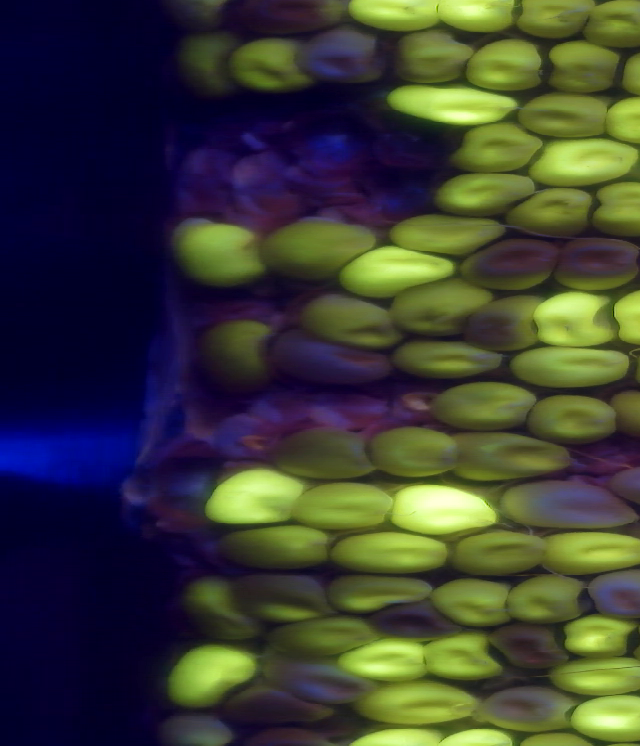fluorescent: (165, 206, 273, 288), (261, 216, 375, 279), (384, 277, 490, 344), (161, 642, 260, 713), (416, 379, 532, 438), (298, 289, 401, 355), (192, 319, 281, 395), (448, 425, 566, 482), (382, 205, 505, 259), (335, 241, 459, 294), (324, 526, 452, 575), (217, 519, 337, 571), (357, 681, 485, 729), (272, 421, 375, 478), (444, 125, 547, 181), (297, 475, 395, 533), (523, 389, 622, 446), (537, 288, 619, 356), (503, 184, 598, 242), (426, 168, 531, 220), (383, 83, 518, 123), (529, 139, 640, 186), (504, 570, 592, 629), (205, 472, 296, 529), (431, 572, 516, 633), (184, 574, 262, 640), (336, 631, 437, 681), (394, 483, 491, 535), (391, 338, 506, 381), (326, 569, 432, 615), (508, 344, 627, 384), (467, 36, 546, 96), (543, 529, 640, 577), (369, 430, 458, 482), (421, 631, 504, 686), (226, 41, 313, 93), (454, 531, 545, 577), (545, 42, 618, 98), (394, 36, 469, 90), (551, 657, 640, 702), (170, 31, 229, 97), (591, 181, 640, 248), (562, 618, 635, 661), (579, 1, 640, 52), (576, 698, 640, 746), (511, 1, 592, 37), (438, 1, 518, 35), (350, 1, 441, 28), (349, 724, 443, 746), (604, 93, 640, 150), (435, 730, 511, 746)
nonfluorescent: (267, 323, 395, 387), (500, 478, 640, 531), (258, 653, 378, 707), (298, 26, 398, 86), (219, 1, 356, 43), (462, 236, 560, 294), (555, 233, 640, 293), (218, 685, 338, 727), (369, 600, 467, 643), (488, 623, 571, 673), (468, 292, 538, 350), (486, 685, 573, 731), (589, 569, 640, 622), (156, 711, 231, 746)
